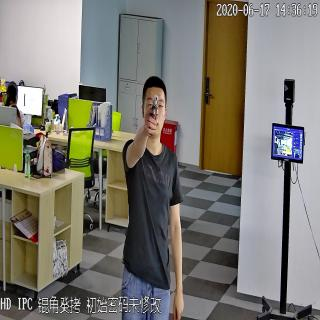gun: (144, 92, 161, 140)
